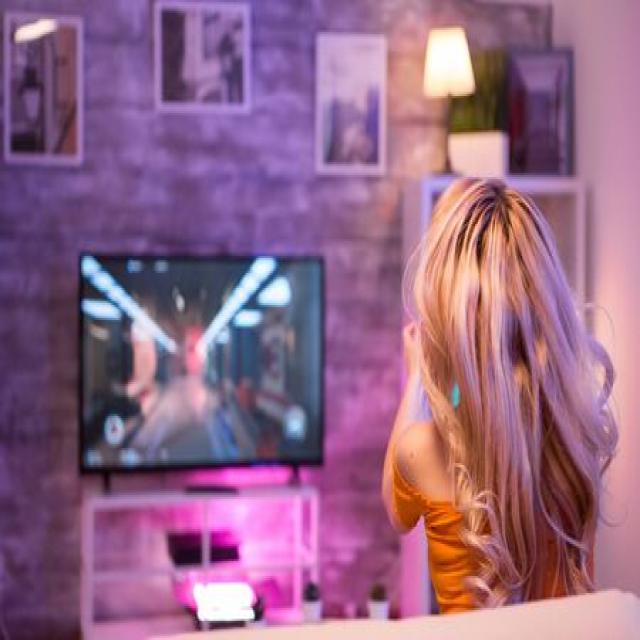tv-person: (68, 164, 612, 640)
